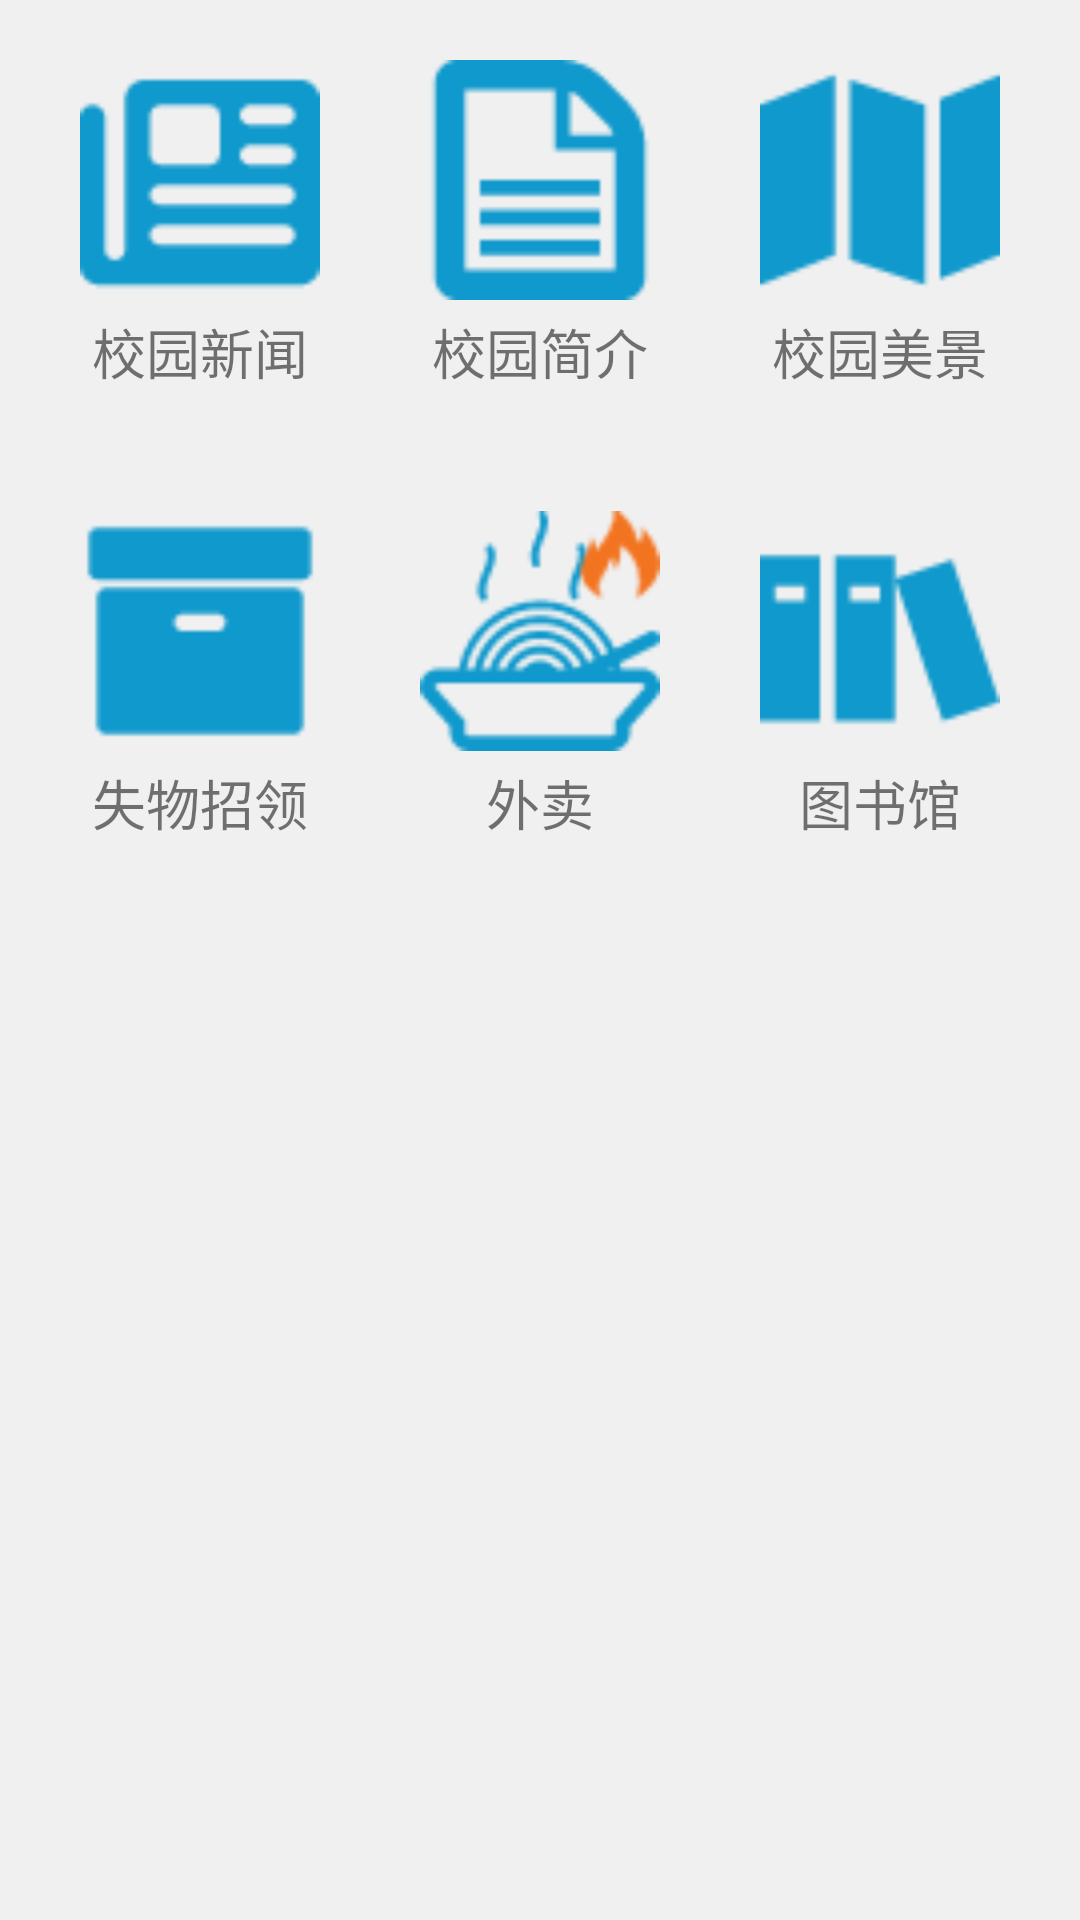

Icon click points for this 1080 × 1920 phone screenshot, format point (x, y):
home gdut paper: point (540, 180)
home map: point (880, 180)
